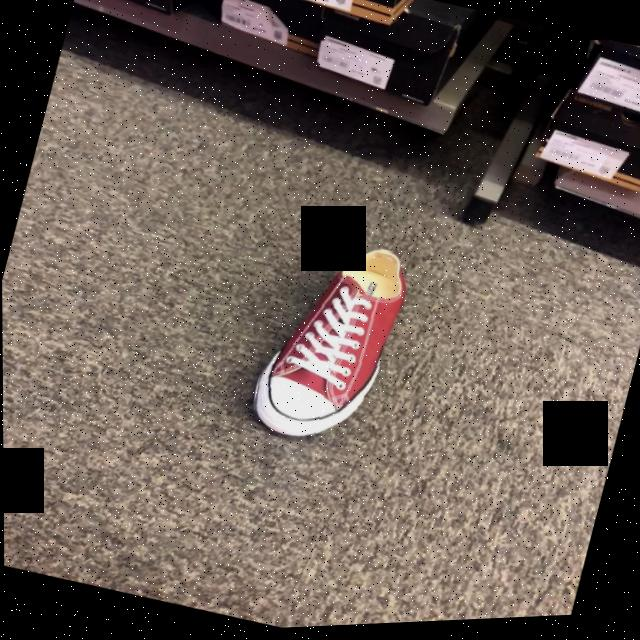shoe: (254, 254, 405, 444)
